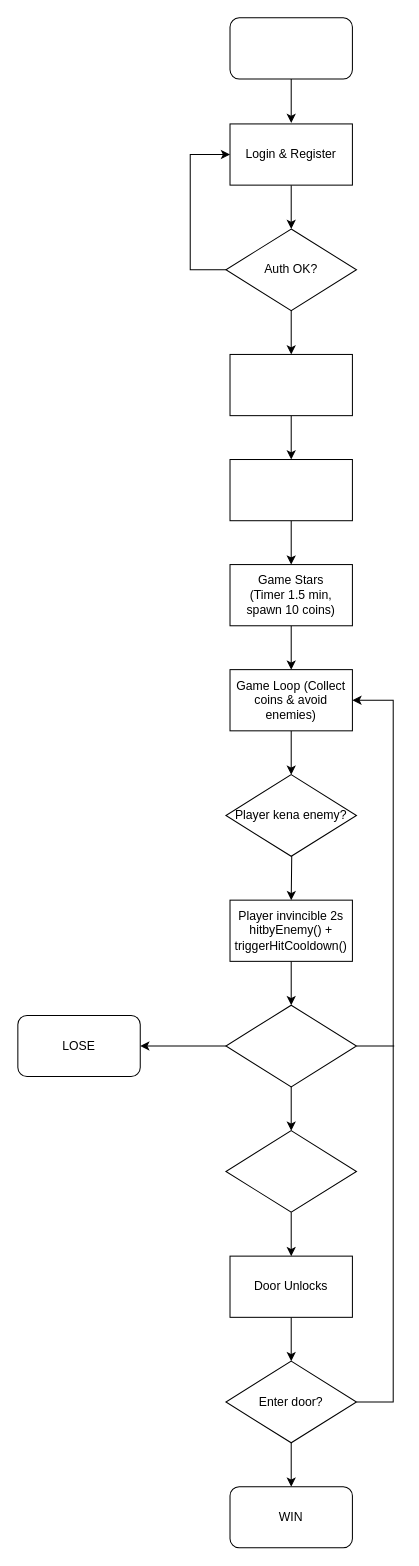
The diagram is 419 pixels wide and 1566 high, and some of its shapes have lost their labels. The box of each missing label's shape, as (x1, y1, x2, y2) in pixels:
20 coins?: (225, 1130, 356, 1212)
Main Menu Screen (Start Game/ Leaderboard/ Exit): (229, 353, 352, 416)
Splash Screen: (229, 17, 352, 79)
Timer = 0?: (225, 1004, 356, 1087)
Tutorial Screen: (229, 458, 352, 521)
